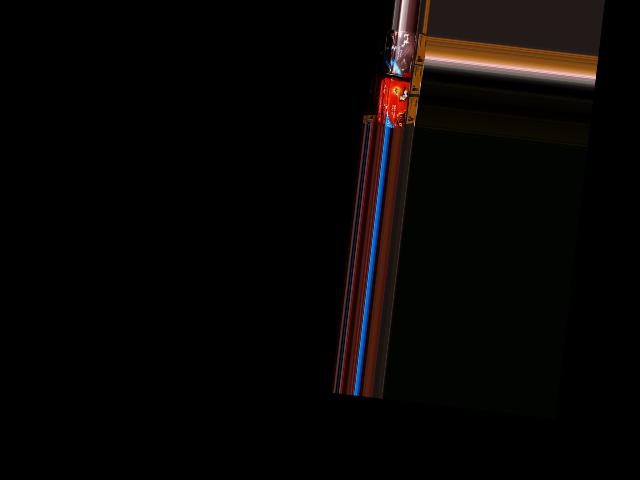chocolate: (389, 28, 421, 74)
